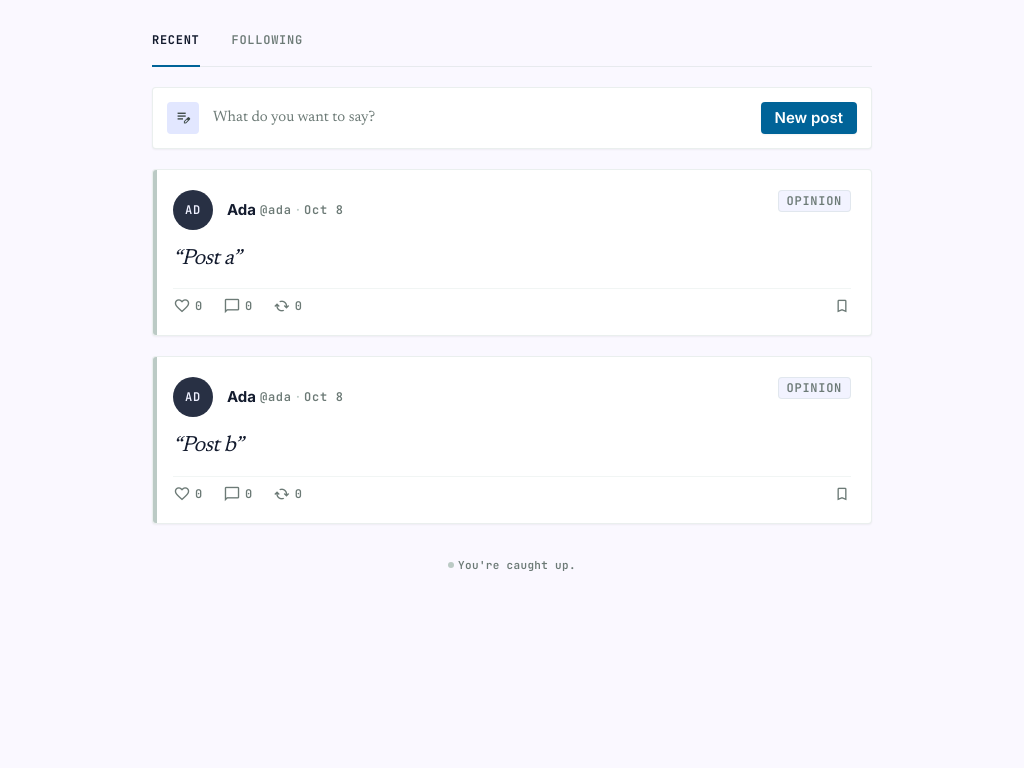
Test: HomeFeed › live badges (Part 5) › starts polling a fact you just posted
This screenshot has width=1024, height=768.
Click the button "What do you want to say? New post".
click(183, 118)  # box [167,102,857,134]
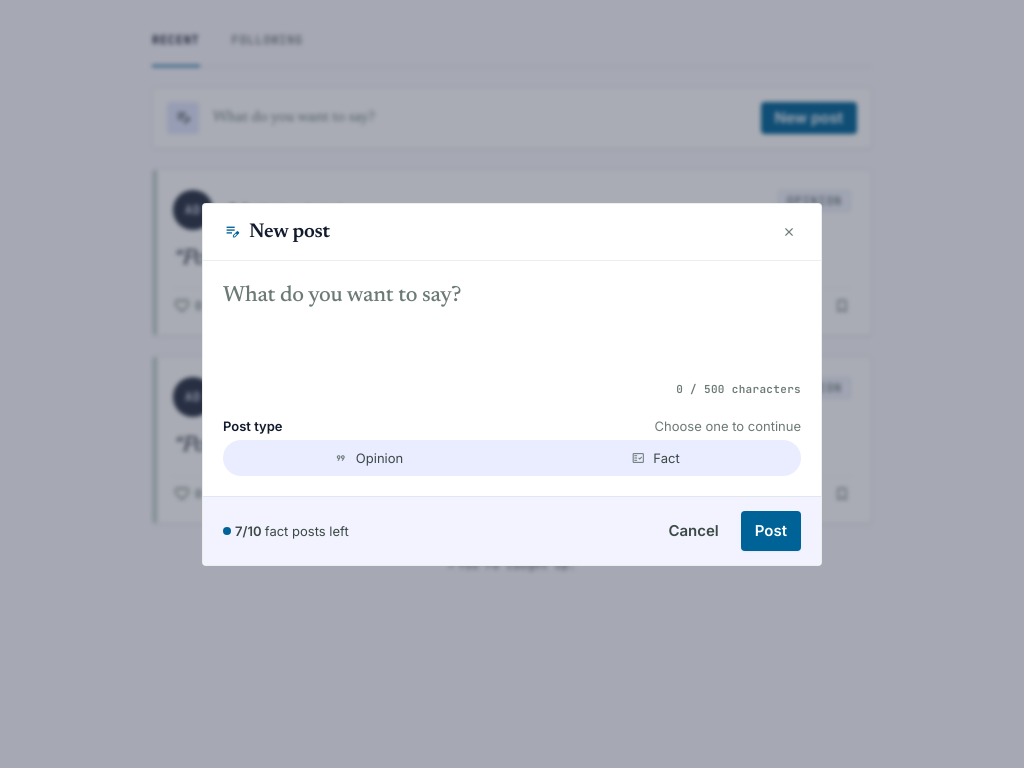
Click the radio button labelled "Fact".
click(656, 458)  # box [514,444,797,472]
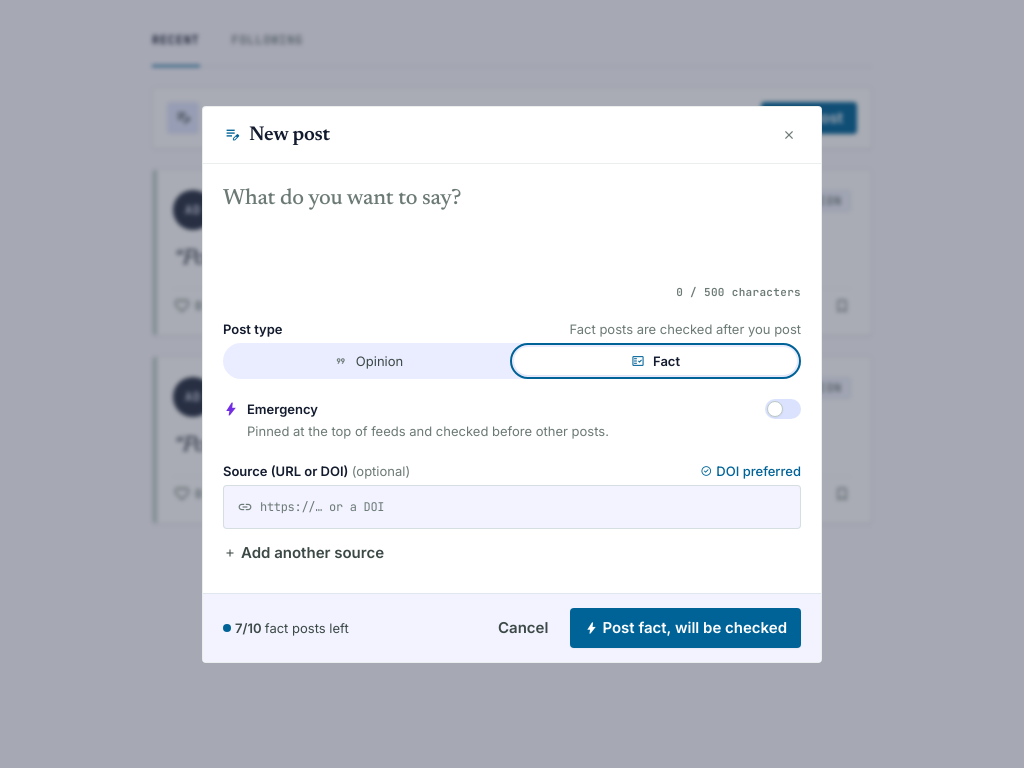
Type "Fresh fact" into the text box named "Post text".
click(512, 228); type("Fresh fact")  # box [223,184,801,274]
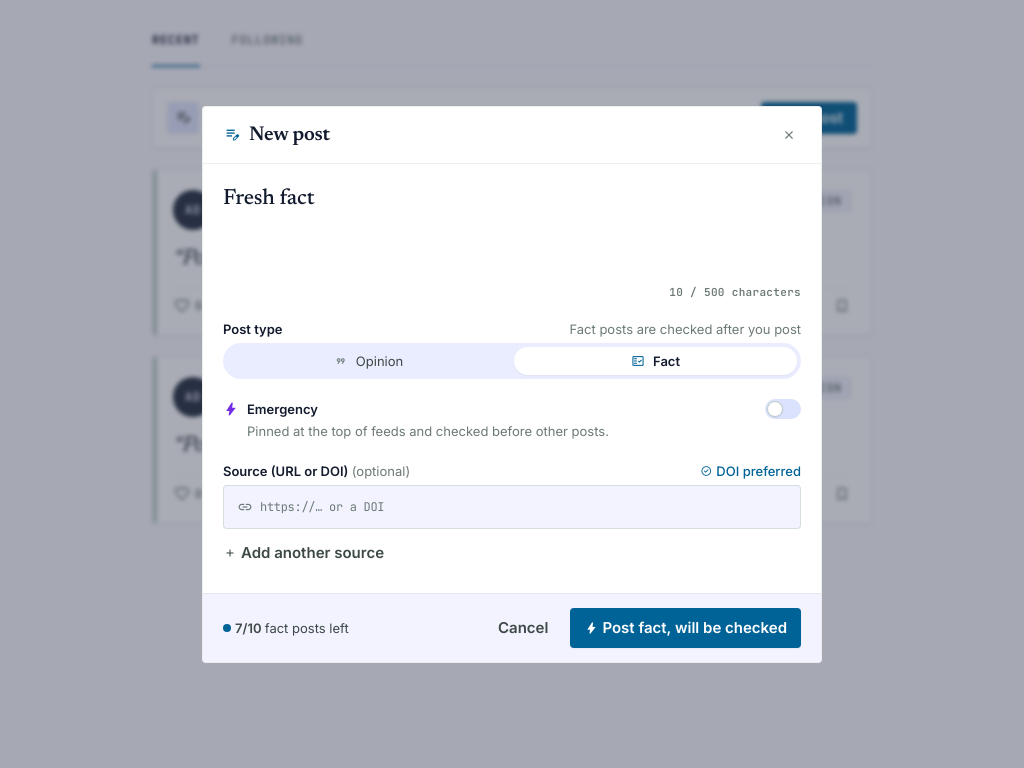
Click the button "Post fact, will be checked".
click(686, 628)  # box [570,608,801,648]
Wait 10000 ms
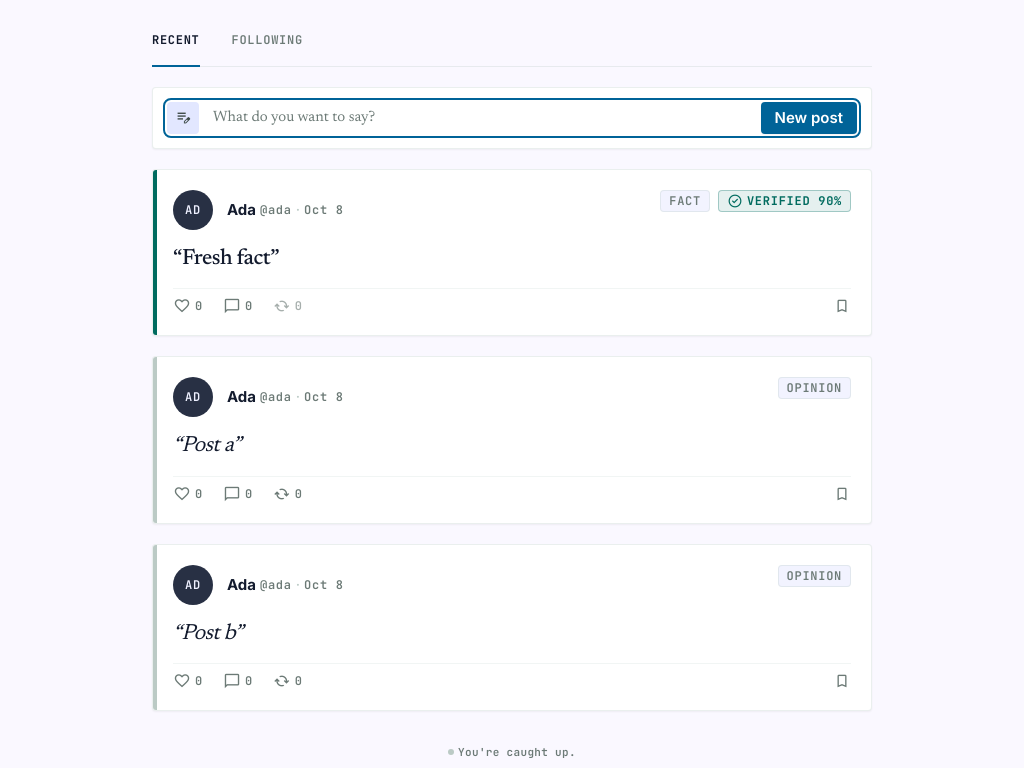
Check: the text "VERIFIED 90%" is shown, box [718,190,851,212]
